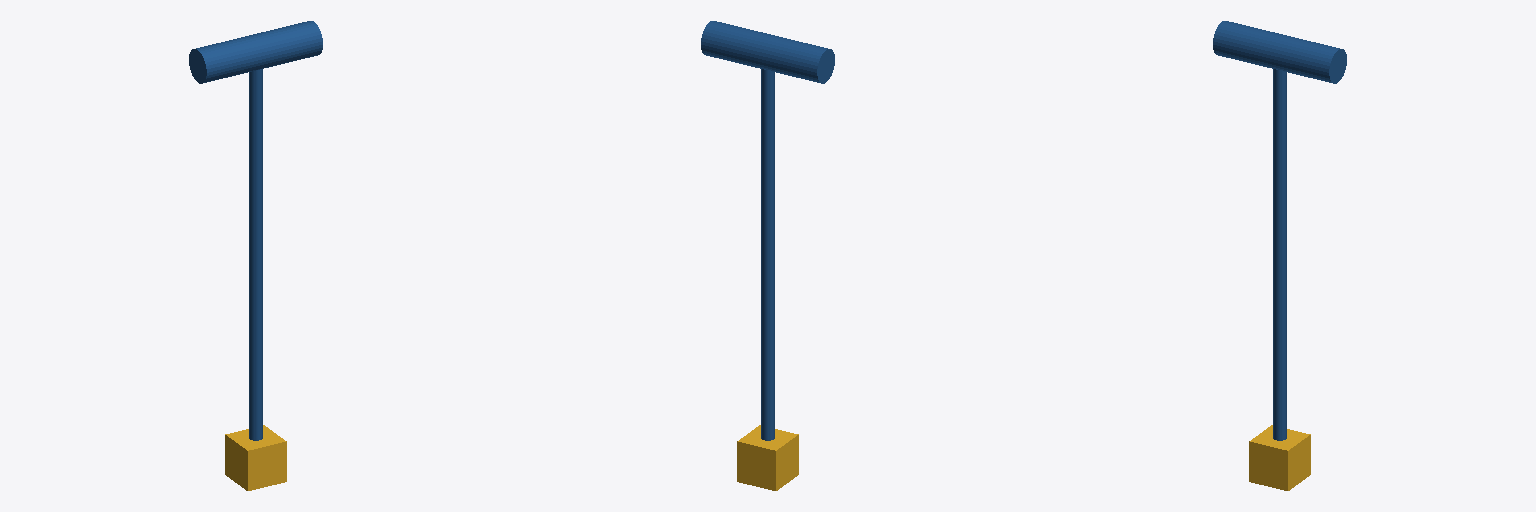
robot.urdf — pendulum:
<?xml version="1.0"?>
<robot name="pendulum">
    <!-- materials -->
    <material name="blue">
        <color rgba="0.2 0.4 0.6 1"/>
    </material>

    <material name="red">
        <color rgba="0.9 0.7 0.2 1"/>
    </material>

    <!-- links -->
    <link name="base_link">
        <visual>
            <geometry>
                <cylinder length="0.3" radius="0.04"/>
            </geometry>
            <origin rpy="0 1.57075 0" xyz="0 0 0"/>
            <material name="blue"/>
        </visual>
    </link>

    <link name="arm">
        <visual>
            <geometry>
                <cylinder length="1" radius="0.015"/>
            </geometry>
            <origin rpy="0 0 0" xyz="0 0 -0.5"/>
            <material name="blue"/>
        </visual>
    </link>

    <link name="mass">
        <visual>
            <geometry>
                <!-- <sphere radius="0.1"/> -->
                <box size="0.1 0.1 0.1"/>
            </geometry>
            <origin rpy="0 0 0" xyz="0 0 -1"/>
            <material name="red"/>
        </visual>

        <!-- the pendulum rotates around the y plane -->
        <inertia>
            <mass value="1"/>
            <!-- m * r ^ 2, where m = 1, r = 1 -->
            <inertia ixx="0" ixy="0" ixz="0" iyy="1" iyz="0" izz="0"/>
        </inertia>
    </link>

    <!-- joints -->
    <!-- the pole and base are massless -->
    <joint name="base_to_arm" type="continuous">
        <parent link="base_link"/>
        <child link="arm"/>
        <origin xyz="0 0 0"/>
        <axis xyz="0 1 0"/>
    </joint>

    <!-- the mass stays fixed to the pole -->
    <joint name="arm_to_mass" type="fixed">
        <parent link="arm"/>
        <child link="mass"/>
        <origin xyz="0 0 0"/>
    </joint>
</robot>

--- What the picture shows (computed from the rendered views, not written in the file) ---
Views: 3 orthographic renders of the robot side by side, from view 1: azimuth 30°, elevation 25°; view 2: azimuth 150°, elevation 25°; view 3: azimuth 330°, elevation 25°.
Robot: pendulum — 3 links, 2 joints (1 continuous, 1 fixed); root link base_link; default pose: every joint at zero.
Visible links, largest first — view 1: arm, base_link, mass; view 2: arm, base_link, mass; view 3: arm, base_link, mass.
Boxes of the visible links, left/top/right/bottom form: arm: left=249, top=69, right=262, bottom=440; base_link: left=189, top=21, right=322, bottom=83; mass: left=225, top=425, right=286, bottom=490; arm: left=761, top=69, right=774, bottom=440; base_link: left=701, top=21, right=834, bottom=83; mass: left=737, top=425, right=798, bottom=490; arm: left=1273, top=69, right=1286, bottom=440; base_link: left=1213, top=21, right=1346, bottom=83; mass: left=1249, top=425, right=1310, bottom=490.
Size in the robot's own frame: 0.3 by 0.1 by 1.09 metres.
Geometry: primitives only (box / cylinder / sphere), no mesh files.